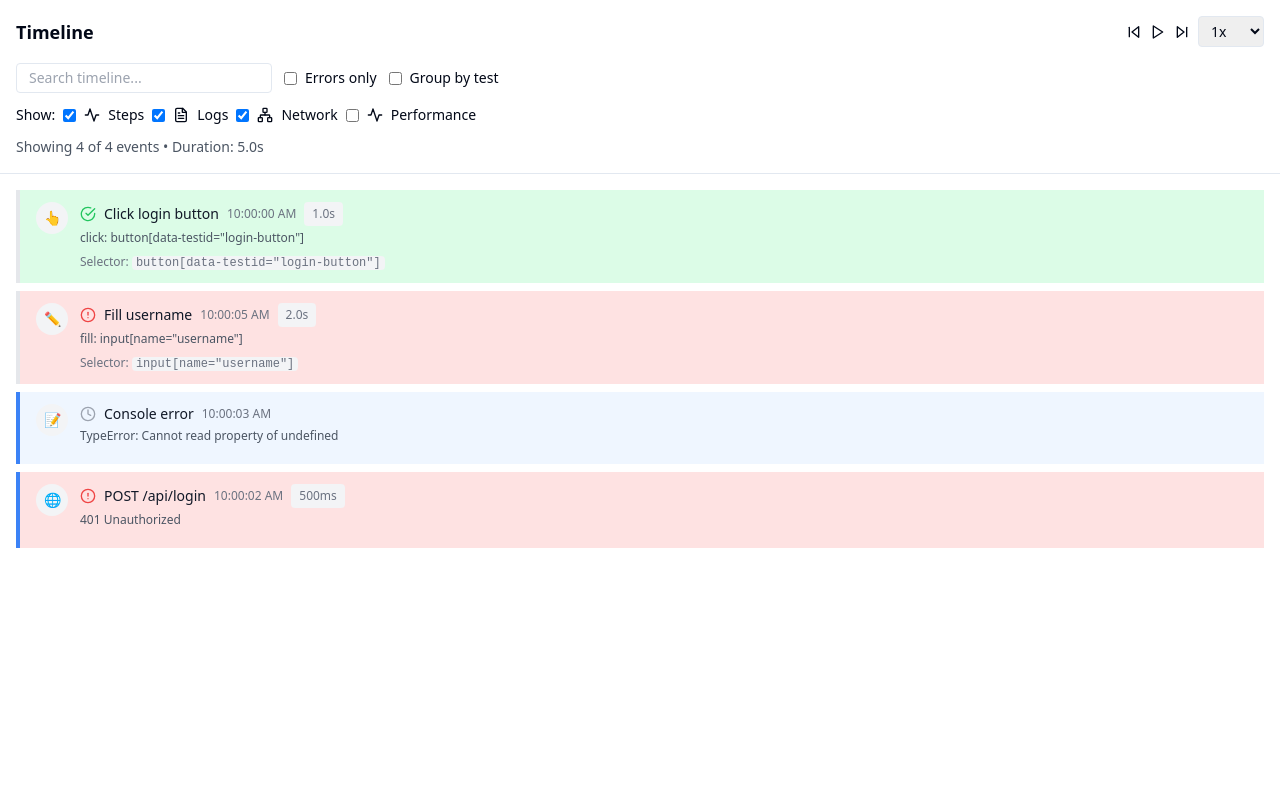
Test: TimelineView › filters by type
Click the checkbox labelled "Steps".
click(70, 115)  # box [63, 108, 76, 122]
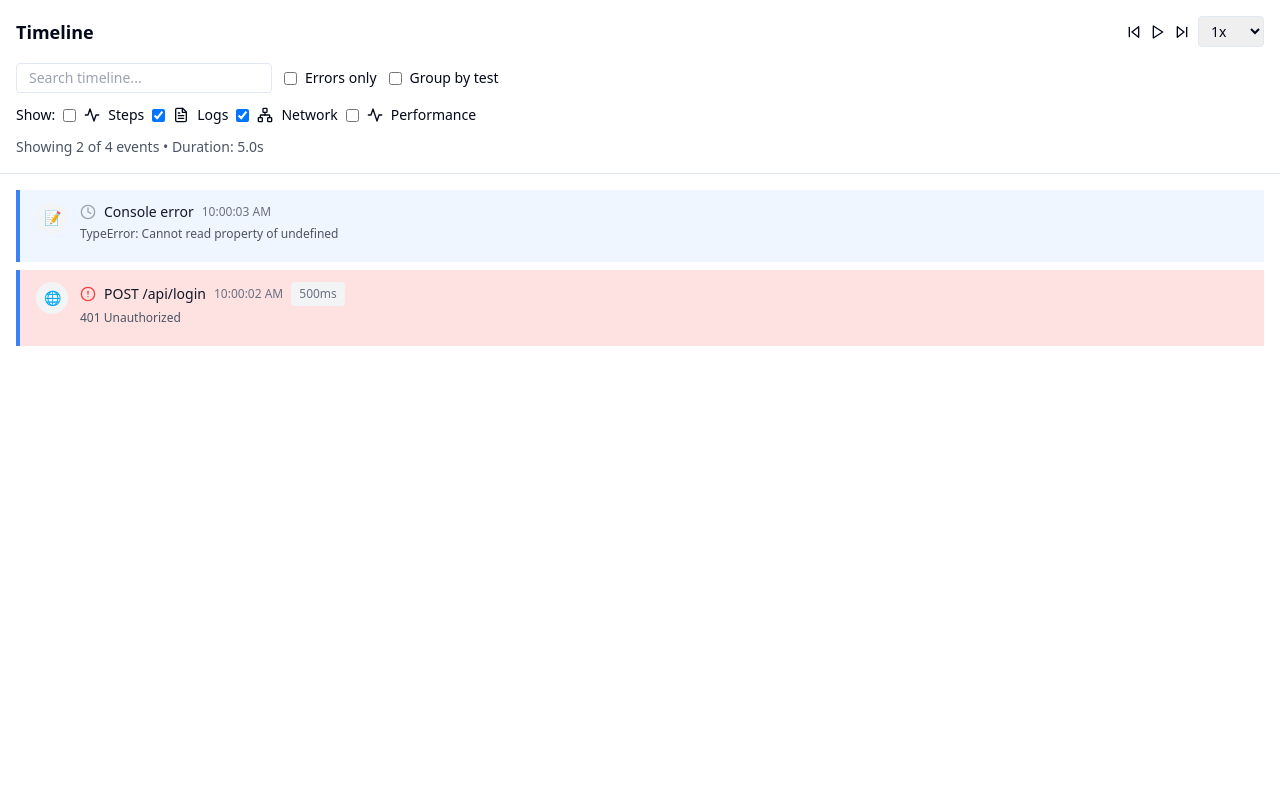
Check: the heading "Console error" is shown, box [104, 202, 194, 222]
Check: the text "Showing 2 of 4 events • Duration: 5.0s" is shown, box [16, 137, 264, 156]
Check: the heading "Click login button" is gone
